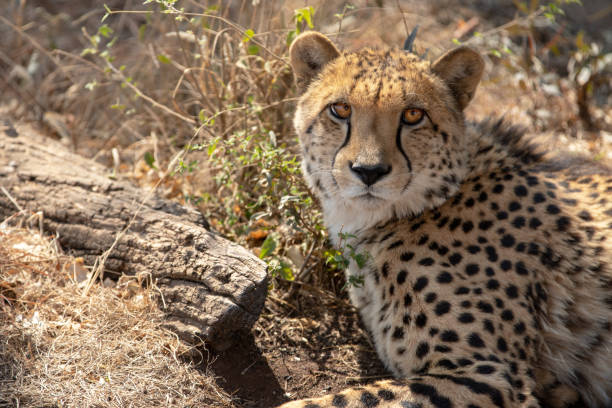cheetah: (260, 16, 500, 252)
